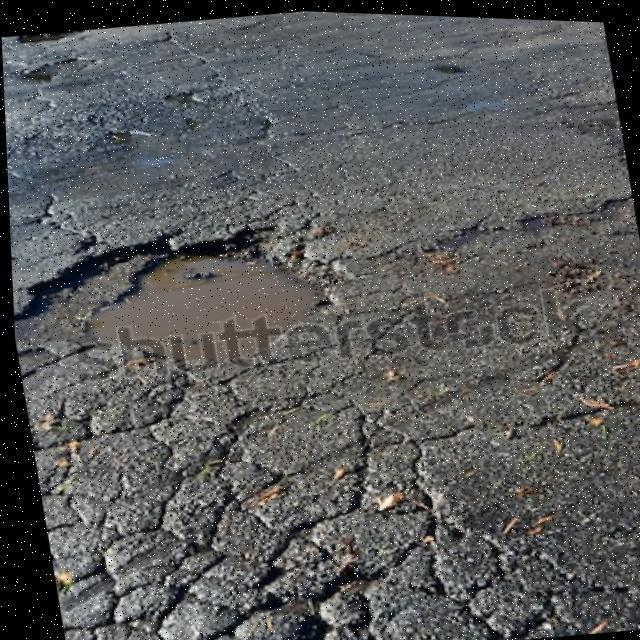Pothole: (15, 219, 354, 377)
